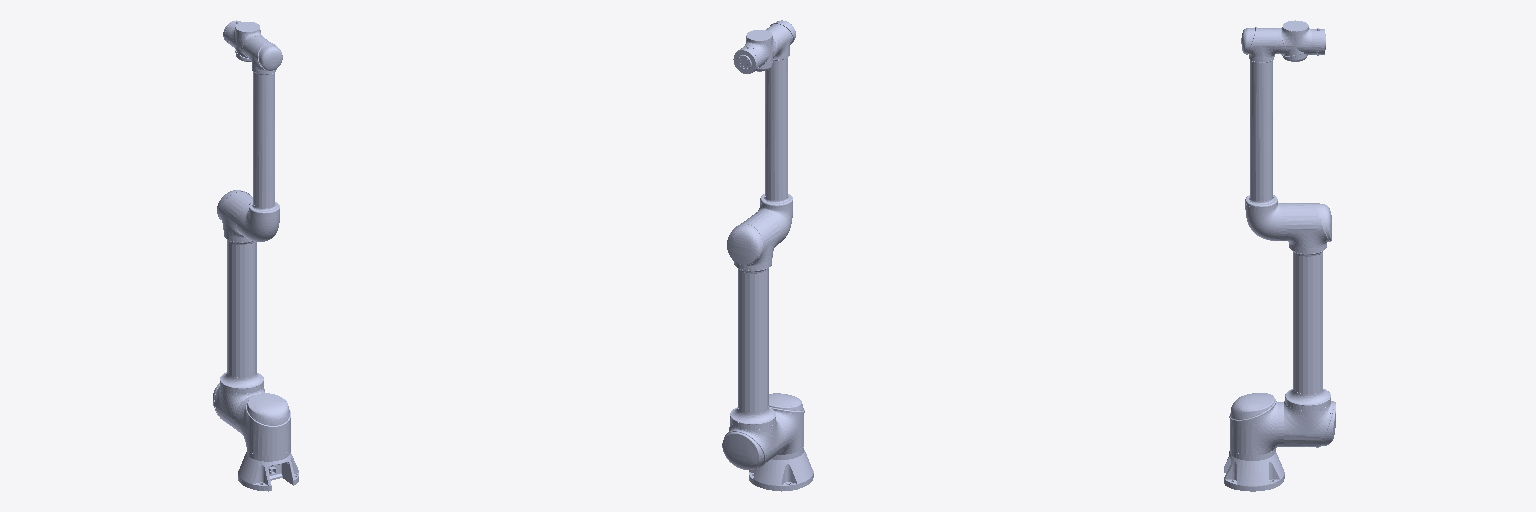
robot.urdf —  gcr25:
<?xml version="1.0" encoding="utf-8"?>
<!-- This URDF was automatically created by SolidWorks to URDF Exporter! Originally created by [author] ([email redacted]) 
     Commit Version: 1.6.0-4-g7f85cfe  Build Version: 1.6.7995.38578
     For more information, please see http://wiki.ros.org/sw_urdf_exporter -->
<robot
  name=" gcr25">
  <link
    name="base_link">
    <inertial>
      <origin
        xyz="-7.6515E-08 -0.029226 0.048463"
        rpy="0 0 0" />
      <mass
        value="0.0040803" />
      <inertia
        ixx="6.3033E-07"
        ixy="-1.603E-12"
        ixz="1.2913E-13"
        iyy="7.6216E-07"
        iyz="-1.4495E-09"
        izz="5.5578E-07" />
    </inertial>
    <visual>
      <origin
        xyz="0 0 0"
        rpy="0 0 0" />
      <geometry>
        <mesh
          filename="package:// gcr25/meshes/base_link.STL" />
      </geometry>
      <material
        name="">
        <color
          rgba="0.79216 0.81961 0.93333 1" />
      </material>
    </visual>
    <collision>
      <origin
        xyz="0 0 0"
        rpy="0 0 0" />
      <geometry>
        <mesh
          filename="package:// gcr25/meshes/base_link.STL" />
      </geometry>
    </collision>
  </link>
  <link
    name="link_1">
    <inertial>
      <origin
        xyz="-0.02683 -2.3767E-07 0.12404"
        rpy="0 0 0" />
      <mass
        value="2.169" />
      <inertia
        ixx="0.0056878"
        ixy="-2.4292E-08"
        ixz="0.00044566"
        iyy="0.0044243"
        iyz="-2.2338E-09"
        izz="0.0070499" />
    </inertial>
    <visual>
      <origin
        xyz="0 0 0"
        rpy="0 0 0" />
      <geometry>
        <mesh
          filename="package:// gcr25/meshes/link_1.STL" />
      </geometry>
      <material
        name="">
        <color
          rgba="0.79216 0.81961 0.93333 1" />
      </material>
    </visual>
    <collision>
      <origin
        xyz="0 0 0"
        rpy="0 0 0" />
      <geometry>
        <mesh
          filename="package:// gcr25/meshes/link_1.STL" />
      </geometry>
    </collision>
  </link>
  <joint
    name="joint_1"
    type="revolute">
    <origin
      xyz="0 0 0.1176"
      rpy="0 0 -1.5708" />
    <parent
      link="base_link" />
    <child
      link="link_1" />
    <axis
      xyz="0 0 -1" />
    <limit
      lower="0"
      upper="0"
      effort="0"
      velocity="0" />
  </joint>
  <link
    name="link_2">
    <inertial>
      <origin
        xyz="-1.2208E-05 0.034892 0.14451"
        rpy="0 0 0" />
      <mass
        value="1.5329" />
      <inertia
        ixx="0.0031036"
        ixy="2.4292E-08"
        ixz="-2.2338E-09"
        iyy="0.0042948"
        iyz="-0.00044566"
        izz="0.0045458" />
    </inertial>
    <visual>
      <origin
        xyz="0 0 0"
        rpy="0 0 0" />
      <geometry>
        <mesh
          filename="package:// gcr25/meshes/link_2.STL" />
      </geometry>
      <material
        name="">
        <color
          rgba="0.79216 0.81961 0.93333 1" />
      </material>
    </visual>
    <collision>
      <origin
        xyz="0 0 0"
        rpy="0 0 0" />
      <geometry>
        <mesh
          filename="package:// gcr25/meshes/link_2.STL" />
      </geometry>
    </collision>
  </link>
  <joint
    name="joint_2"
    type="revolute">
    <origin
      xyz="-0.1239 -1.1872E-05 0.11741"
      rpy="1.5708 0 -1.5708" />
    <parent
      link="link_1" />
    <child
      link="link_2" />
    <axis
      xyz="0 0 -1" />
    <limit
      lower="0"
      upper="0"
      effort="0"
      velocity="0" />
  </joint>
  <link
    name="link_3">
    <inertial>
      <origin
        xyz="4.5765E-05 3.4016E-05 0.01025"
        rpy="0 0 0" />
      <mass
        value="0.36226" />
      <inertia
        ixx="0.00052212"
        ixy="-3.3491E-36"
        ixz="1.1759E-22"
        iyy="0.00052212"
        iyz="2.5908E-19"
        izz="0.0010189" />
    </inertial>
    <visual>
      <origin
        xyz="0 0 0"
        rpy="0 0 0" />
      <geometry>
        <mesh
          filename="package:// gcr25/meshes/link_3.STL" />
      </geometry>
      <material
        name="">
        <color
          rgba="0.79216 0.81961 0.93333 1" />
      </material>
    </visual>
    <collision>
      <origin
        xyz="0 0 0"
        rpy="0 0 0" />
      <geometry>
        <mesh
          filename="package:// gcr25/meshes/link_3.STL" />
      </geometry>
    </collision>
  </link>
  <joint
    name="joint_3"
    type="revolute">
    <origin
      xyz="3.3893E-05 0.87746 0.0094"
      rpy="-3.1416 0 3.1416" />
    <parent
      link="link_2" />
    <child
      link="link_3" />
    <axis
      xyz="0 0 -1" />
    <limit
      lower="0"
      upper="0"
      effort="0"
      velocity="0" />
  </joint>
  <link
    name="link_4">
    <inertial>
      <origin
        xyz="2.7617E-05 0.02981 0.053971"
        rpy="0 0 0" />
      <mass
        value="0.040949" />
      <inertia
        ixx="0.00011443"
        ixy="5.5779E-08"
        ixz="1.9935E-08"
        iyy="0.00010143"
        iyz="-2.2071E-05"
        izz="9.7333E-05" />
    </inertial>
    <visual>
      <origin
        xyz="0 0 0"
        rpy="0 0 0" />
      <geometry>
        <mesh
          filename="package:// gcr25/meshes/link_4.STL" />
      </geometry>
      <material
        name="">
        <color
          rgba="0.79216 0.81961 0.93333 1" />
      </material>
    </visual>
    <collision>
      <origin
        xyz="0 0 0"
        rpy="0 0 0" />
      <geometry>
        <mesh
          filename="package:// gcr25/meshes/link_4.STL" />
      </geometry>
    </collision>
  </link>
  <joint
    name="joint_4"
    type="revolute">
    <origin
      xyz="4.9923E-05 0.78805 0.0335"
      rpy="3.1416 0 3.1416" />
    <parent
      link="link_3" />
    <child
      link="link_4" />
    <axis
      xyz="0 0 -1" />
    <limit
      lower="0"
      upper="0"
      effort="0"
      velocity="0" />
  </joint>
  <link
    name="link_5">
    <inertial>
      <origin
        xyz="-0.02983 2.336E-05 0.053971"
        rpy="0 0 0" />
      <mass
        value="0.040949" />
      <inertia
        ixx="0.00010143"
        ixy="-5.6111E-08"
        ixz="2.2071E-05"
        iyy="0.00011443"
        iyz="1.9838E-08"
        izz="9.7332E-05" />
    </inertial>
    <visual>
      <origin
        xyz="0 0 0"
        rpy="0 0 0" />
      <geometry>
        <mesh
          filename="package:// gcr25/meshes/link_5.STL" />
      </geometry>
      <material
        name="">
        <color
          rgba="0.79216 0.81961 0.93333 1" />
      </material>
    </visual>
    <collision>
      <origin
        xyz="0 0 0"
        rpy="0 0 0" />
      <geometry>
        <mesh
          filename="package:// gcr25/meshes/link_5.STL" />
      </geometry>
    </collision>
  </link>
  <joint
    name="joint_5"
    type="revolute">
    <origin
      xyz="0 0.06498 0.0695"
      rpy="1.5708 1.5708 0" />
    <parent
      link="link_4" />
    <child
      link="link_5" />
    <axis
      xyz="0 0 -1" />
    <limit
      lower="0"
      upper="0"
      effort="0"
      velocity="0" />
  </joint>
  <link
    name="link_6">
    <inertial>
      <origin
        xyz="-4.544E-06 -0.00011522 0.049206"
        rpy="0 0 0" />
      <mass
        value="0.040524" />
      <inertia
        ixx="1.4137E-05"
        ixy="-4.625E-19"
        ixz="8.9256E-20"
        iyy="1.4256E-05"
        iyz="1.6648E-08"
        izz="2.7195E-05" />
    </inertial>
    <visual>
      <origin
        xyz="0 0 0"
        rpy="0 0 0" />
      <geometry>
        <mesh
          filename="package:// gcr25/meshes/link_6.STL" />
      </geometry>
      <material
        name="">
        <color
          rgba="0.79216 0.81961 0.93333 1" />
      </material>
    </visual>
    <collision>
      <origin
        xyz="0 0 0"
        rpy="0 0 0" />
      <geometry>
        <mesh
          filename="package:// gcr25/meshes/link_6.STL" />
      </geometry>
    </collision>
  </link>
  <joint
    name="joint_6"
    type="revolute">
    <origin
      xyz="-0.065 0 0.069499"
      rpy="1.5708 0 -1.5708" />
    <parent
      link="link_5" />
    <child
      link="link_6" />
    <axis
      xyz="0 0 -1" />
    <limit
      lower="0"
      upper="0"
      effort="0"
      velocity="0" />
  </joint>
</robot>

--- Facts derived from the render (not from the file) ---
The picture shows the robot from 3 angles, left to right: view 1: azimuth 30°, elevation 25°; view 2: azimuth 150°, elevation 25°; view 3: azimuth 270°, elevation 25°; orthographic projection.
Model  gcr25 with 7 links and 6 joints (6 revolute), rooted at base_link, posed every joint at zero.
Visible links, largest first — view 1: link_2, link_3, link_1, base_link; view 2: link_2, link_3, base_link, link_1, link_6; view 3: link_2, link_3, link_1, base_link, link_4, link_5.
Link boxes in pixels (x1,y1,x2,y2): link_2: (213,190,264,431); link_3: (236,36,282,241); link_1: (234,393,290,461); base_link: (238,452,298,491); link_2: (722,213,784,469); link_3: (752,20,795,243); base_link: (749,450,813,491); link_1: (769,393,804,459); link_6: (733,45,761,73); link_2: (1284,203,1335,447); link_3: (1241,27,1286,240); link_1: (1229,393,1283,460); base_link: (1224,451,1284,491); link_4: (1278,20,1308,61); link_5: (1279,22,1311,54).
Bounding box of the posed robot: 0.252 × 0.4428 × 1.97 m (x, y, z).
Meshes: 7 distinct files referenced, 7 mesh visuals loaded (7 binary STL).
